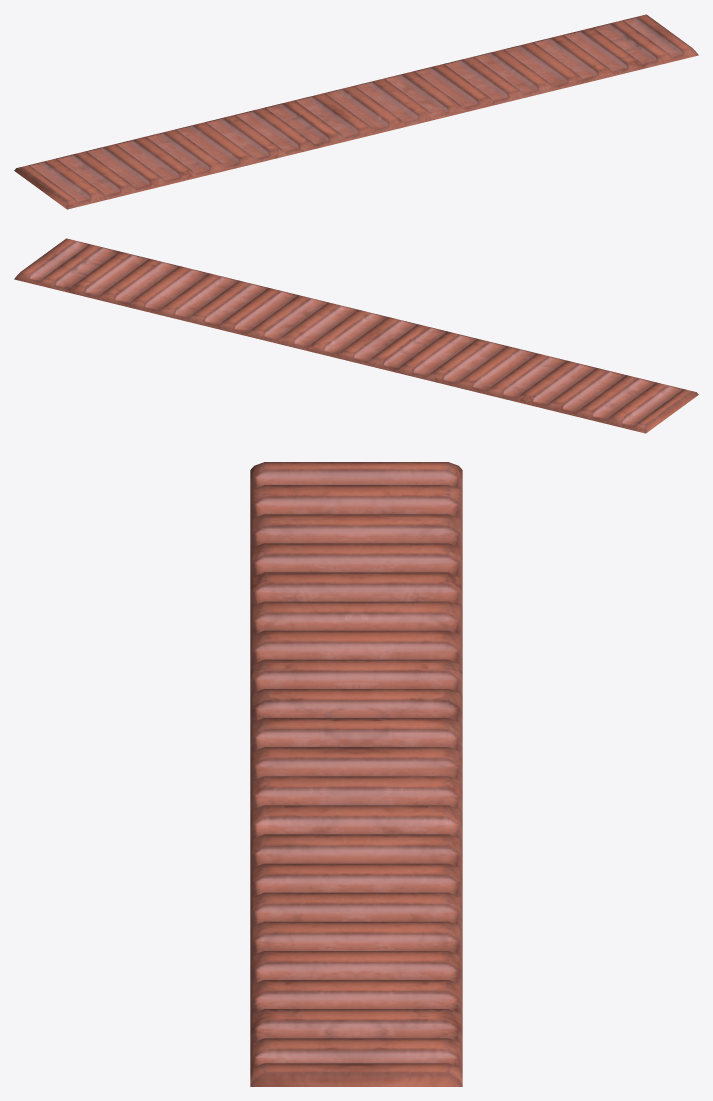
Rendered from SM_Rubber_Floor_01b.fbx.
The picture shows the model from 3 angles, top to bottom: view 1: azimuth 30°, elevation 25°; view 2: azimuth 150°, elevation 25°; view 3: azimuth 270°, elevation 25°; orthographic projection. The views are drawn at different scales.
Visible parts, largest first — view 1: SM_Rubber_Floor_01b; view 2: SM_Rubber_Floor_01b; view 3: SM_Rubber_Floor_01b.
Part boxes in pixels (box(x1,y1,x2,y2)): SM_Rubber_Floor_01b: box(14, 14, 698, 209); SM_Rubber_Floor_01b: box(14, 238, 698, 433); SM_Rubber_Floor_01b: box(250, 462, 462, 1086).
Bounding box in the file's own units: 202 × 29.38 × 1.64.
Materials: 1 (1 with a texture image).
